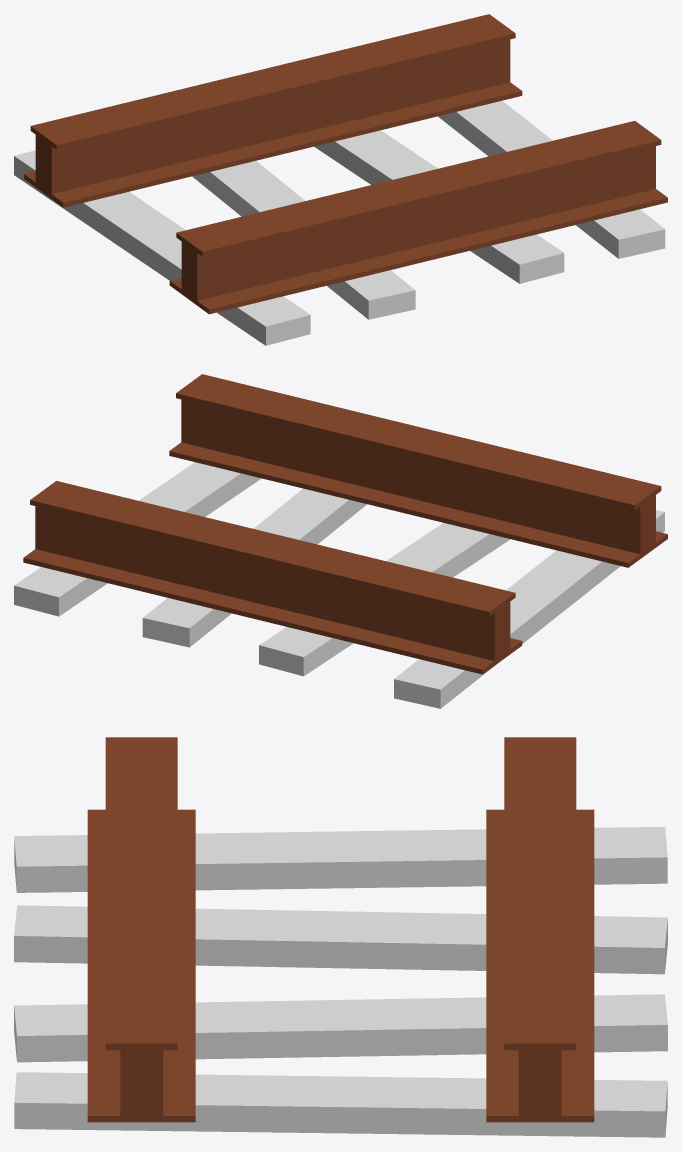
File: RailwayB.fbx
3 views of the same model, one above another, from view 1: azimuth 30°, elevation 25°; view 2: azimuth 150°, elevation 25°; view 3: azimuth 270°, elevation 25° (orthographic). The views are drawn at different scales.
Visible parts, largest first — view 1: Cube; view 2: Cube; view 3: Cube.
Part boxes in pixels (x1,y1,x2,y2): Cube: (14, 14, 667, 345); Cube: (14, 374, 667, 708); Cube: (14, 737, 667, 1137).
Size of the model in its own units: 2000 by 320 by 1805.
